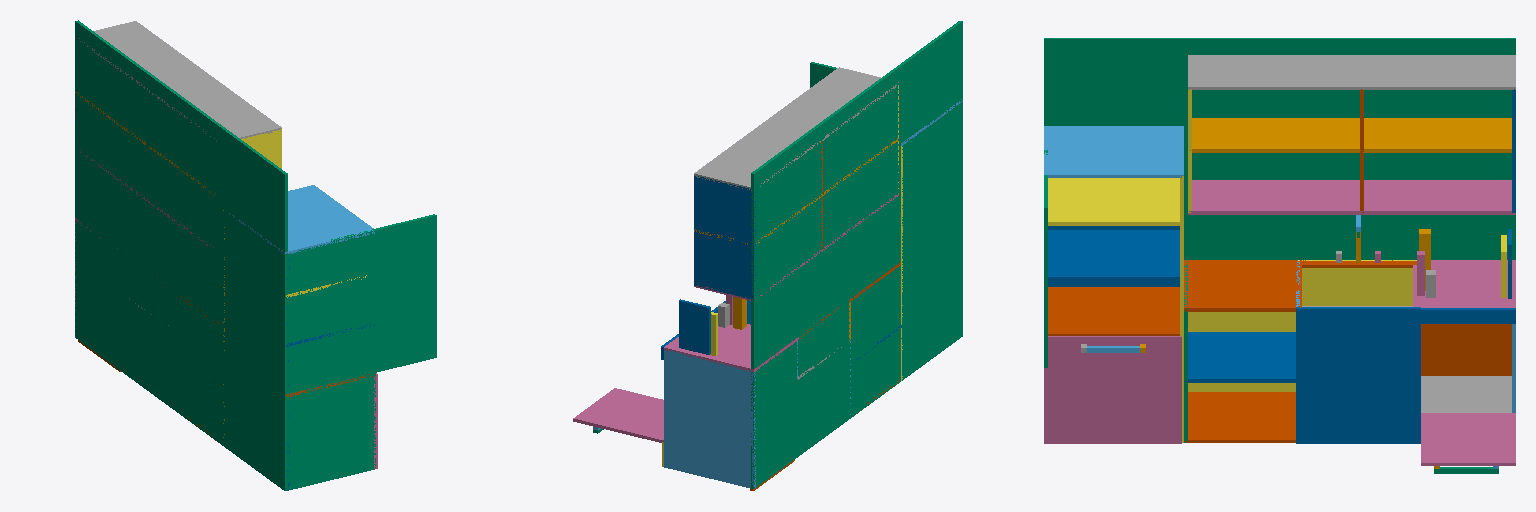
--- Render facts (derived) ---
3 views of the same robot in one strip: view 1: azimuth 30°, elevation 25°; view 2: azimuth 150°, elevation 25°; view 3: azimuth 270°, elevation 25° (orthographic).
Robot: countertop — 53 links, 52 joints (52 fixed); root link world; default pose: every joint at zero.
Visible links, largest first — view 1: back_wall, fridge_left_wall, fridge_door, cabinet_top, fridge_top, cabinet_left_wall; view 2: back_wall, dishwasher_right_side, cabinet_top, cabinet_right_wall, dishwasher_door, countertop_right, cereal2; view 3: back_wall, sink_front_wall, freezer_door, cabinet_top, cabinet_bottom, cabinet_shelf, fridge_top, fridge_shelf2, fridge_shelf3, fridge_shelf1, countertop_left, lower_cabinet_bottom (+13 smaller).
Link boxes in pixels (x1,y1,x2,y2): back_wall: (75, 20, 287, 490); fridge_left_wall: (283, 233, 375, 490); fridge_door: (331, 214, 436, 382); cabinet_top: (79, 21, 281, 141); fridge_top: (229, 185, 374, 254); cabinet_left_wall: (241, 129, 281, 168); back_wall: (751, 21, 962, 488); dishwasher_right_side: (664, 349, 755, 488); cabinet_top: (694, 67, 898, 190); cabinet_right_wall: (694, 176, 755, 299); dishwasher_door: (573, 388, 663, 442); countertop_right: (664, 324, 798, 371); cereal2: (679, 299, 710, 354); back_wall: (1044, 38, 1515, 259); sink_front_wall: (1296, 307, 1420, 443); freezer_door: (1044, 336, 1181, 443); cabinet_top: (1188, 55, 1515, 89); cabinet_bottom: (1188, 180, 1515, 214); cabinet_shelf: (1190, 118, 1511, 152); fridge_top: (1044, 126, 1183, 177); fridge_shelf2: (1048, 230, 1179, 280); fridge_shelf3: (1048, 287, 1179, 335); fridge_shelf1: (1048, 178, 1179, 225); countertop_left: (1184, 260, 1301, 311); lower_cabinet_bottom: (1184, 392, 1295, 442).
Size in the robot's own frame: 0.6 by 1.2 by 1.01 metres.
Geometry: primitives only (box / cylinder / sphere), no mesh files.

URDF robot description (countertop):
<robot name="countertop">
  <link name="world"/>
  <link name="fridge_top">
    <visual>
      <geometry>
        <box size="0.3 0.355 0.01"/>
      </geometry>
      <origin xyz="0.075 0.08875 0.375" rpy="0 0 0"/>
    </visual>
    <collision>
    <origin xyz="0.075 0.08875 0.375" rpy="0 0 0"/>
      <geometry>
        <box size="0.3 0.355 0.01"/>
      </geometry>
    </collision>
  </link>
  <joint name="fridge_top_joint" type="fixed">
    <parent link="world"/>
    <child link="fridge_top"/>
    <origin xyz="0.075 0.08875 0.375" rpy="0 0 0"/>
  </joint>
  <link name="fridge_door">
    <visual>
      <geometry>
        <box size="0.35 0.01 0.45"/>
      </geometry>
      <origin xyz="0.1625 0.0025 0.265" rpy="0 0 0"/>
    </visual>
    <collision>
    <origin xyz="0.1625 0.0025 0.265" rpy="0 0 0"/>
      <geometry>
        <box size="0.35 0.01 0.45"/>
      </geometry>
    </collision>
  </link>
  <joint name="fridge_door_joint" type="fixed">
    <parent link="world"/>
    <child link="fridge_door"/>
    <origin xyz="0.1625 0.0025 0.265" rpy="0 0 0"/>
  </joint>
  <link name="fridge_shelf1">
    <visual>
      <geometry>
        <box size="0.295 0.35 0.01"/>
      </geometry>
      <origin xyz="0.075 0.0875 0.3075" rpy="0 0 0"/>
    </visual>
    <collision>
    <origin xyz="0.075 0.0875 0.3075" rpy="0 0 0"/>
      <geometry>
        <box size="0.295 0.35 0.01"/>
      </geometry>
    </collision>
  </link>
  <joint name="fridge_shelf1_joint" type="fixed">
    <parent link="world"/>
    <child link="fridge_shelf1"/>
    <origin xyz="0.075 0.0875 0.3075" rpy="0 0 0"/>
  </joint>
  <link name="fridge_shelf2">
    <visual>
      <geometry>
        <box size="0.295 0.35 0.01"/>
      </geometry>
      <origin xyz="0.075 0.0875 0.23" rpy="0 0 0"/>
    </visual>
    <collision>
    <origin xyz="0.075 0.0875 0.23" rpy="0 0 0"/>
      <geometry>
        <box size="0.295 0.35 0.01"/>
      </geometry>
    </collision>
  </link>
  <joint name="fridge_shelf2_joint" type="fixed">
    <parent link="world"/>
    <child link="fridge_shelf2"/>
    <origin xyz="0.075 0.0875 0.23" rpy="0 0 0"/>
  </joint>
  <link name="fridge_shelf3">
    <visual>
      <geometry>
        <box size="0.295 0.35 0.01"/>
      </geometry>
      <origin xyz="0.075 0.0875 0.15" rpy="0 0 0"/>
    </visual>
    <collision>
    <origin xyz="0.075 0.0875 0.15" rpy="0 0 0"/>
      <geometry>
        <box size="0.295 0.35 0.01"/>
      </geometry>
    </collision>
  </link>
  <joint name="fridge_shelf3_joint" type="fixed">
    <parent link="world"/>
    <child link="fridge_shelf3"/>
    <origin xyz="0.075 0.0875 0.15" rpy="0 0 0"/>
  </joint>
  <link name="freezer_door">
    <visual>
      <geometry>
        <box size="0.01 0.35 0.3"/>
      </geometry>
      <origin xyz="0.15 0.0875 0.075" rpy="0 0 0"/>
    </visual>
    <collision>
    <origin xyz="0.15 0.0875 0.075" rpy="0 0 0"/>
      <geometry>
        <box size="0.01 0.35 0.3"/>
      </geometry>
    </collision>
  </link>
  <joint name="freezer_door_joint" type="fixed">
    <parent link="world"/>
    <child link="freezer_door"/>
    <origin xyz="0.15 0.0875 0.075" rpy="0 0 0"/>
  </joint>
  <link name="freezer_handle_left">
    <visual>
      <geometry>
        <box size="0.035 0.015 0.015"/>
      </geometry>
      <origin xyz="0.1575 0.05 0.1375" rpy="0 0 0"/>
    </visual>
    <collision>
    <origin xyz="0.1575 0.05 0.1375" rpy="0 0 0"/>
      <geometry>
        <box size="0.035 0.015 0.015"/>
      </geometry>
    </collision>
  </link>
  <joint name="freezer_handle_left_joint" type="fixed">
    <parent link="world"/>
    <child link="freezer_handle_left"/>
    <origin xyz="0.1575 0.05 0.1375" rpy="0 0 0"/>
  </joint>
  <link name="freezer_handle_right">
    <visual>
      <geometry>
        <box size="0.035 0.015 0.015"/>
      </geometry>
      <origin xyz="0.1575 0.125 0.1375" rpy="0 0 0"/>
    </visual>
    <collision>
    <origin xyz="0.1575 0.125 0.1375" rpy="0 0 0"/>
      <geometry>
        <box size="0.035 0.015 0.015"/>
      </geometry>
    </collision>
  </link>
  <joint name="freezer_handle_right_joint" type="fixed">
    <parent link="world"/>
    <child link="freezer_handle_right"/>
    <origin xyz="0.1575 0.125 0.1375" rpy="0 0 0"/>
  </joint>
  <link name="freezer_handle">
    <visual>
      <geometry>
        <box size="0.015 0.15 0.015"/>
      </geometry>
      <origin xyz="0.1625 0.0875 0.1375" rpy="0 0 0"/>
    </visual>
    <collision>
    <origin xyz="0.1625 0.0875 0.1375" rpy="0 0 0"/>
      <geometry>
        <box size="0.015 0.15 0.015"/>
      </geometry>
    </collision>
  </link>
  <joint name="freezer_handle_joint" type="fixed">
    <parent link="world"/>
    <child link="freezer_handle"/>
    <origin xyz="0.1625 0.0875 0.1375" rpy="0 0 0"/>
  </joint>
  <link name="fridge_left_wall">
    <visual>
      <geometry>
        <box size="0.3 0.01 0.75"/>
      </geometry>
      <origin xyz="0.075 0.0025 0.1875" rpy="0 0 0"/>
    </visual>
    <collision>
    <origin xyz="0.075 0.0025 0.1875" rpy="0 0 0"/>
      <geometry>
        <box size="0.3 0.01 0.75"/>
      </geometry>
    </collision>
  </link>
  <joint name="fridge_left_wall_joint" type="fixed">
    <parent link="world"/>
    <child link="fridge_left_wall"/>
    <origin xyz="0.075 0.0025 0.1875" rpy="0 0 0"/>
  </joint>
  <link name="fridge_right_wall">
    <visual>
      <geometry>
        <box size="0.3 0.01 0.75"/>
      </geometry>
      <origin xyz="0.075 0.175 0.1875" rpy="0 0 0"/>
    </visual>
    <collision>
    <origin xyz="0.075 0.175 0.1875" rpy="0 0 0"/>
      <geometry>
        <box size="0.3 0.01 0.75"/>
      </geometry>
    </collision>
  </link>
  <joint name="fridge_right_wall_joint" type="fixed">
    <parent link="world"/>
    <child link="fridge_right_wall"/>
    <origin xyz="0.075 0.175 0.1875" rpy="0 0 0"/>
  </joint>
  <link name="fridge_back_wall">
    <visual>
      <geometry>
        <box size="0.01 0.35 0.75"/>
      </geometry>
      <origin xyz="0.005 0.0875 0.1875" rpy="0 0 0"/>
    </visual>
    <collision>
    <origin xyz="0.005 0.0875 0.1875" rpy="0 0 0"/>
      <geometry>
        <box size="0.01 0.35 0.75"/>
      </geometry>
    </collision>
  </link>
  <joint name="fridge_back_wall_joint" type="fixed">
    <parent link="world"/>
    <child link="fridge_back_wall"/>
    <origin xyz="0.005 0.0875 0.1875" rpy="0 0 0"/>
  </joint>
  <link name="countertop_left">
    <visual>
      <geometry>
        <box size="0.3 0.3 0.01"/>
      </geometry>
      <origin xyz="0.075 0.2525 0.1875" rpy="0 0 0"/>
    </visual>
    <collision>
    <origin xyz="0.075 0.2525 0.1875" rpy="0 0 0"/>
      <geometry>
        <box size="0.3 0.3 0.01"/>
      </geometry>
    </collision>
  </link>
  <joint name="countertop_left_joint" type="fixed">
    <parent link="world"/>
    <child link="countertop_left"/>
    <origin xyz="0.075 0.2525 0.1875" rpy="0 0 0"/>
  </joint>
  <link name="countertop_right">
    <visual>
      <geometry>
        <box size="0.3 0.26 0.01"/>
      </geometry>
      <origin xyz="0.075 0.535 0.1875" rpy="0 0 0"/>
    </visual>
    <collision>
    <origin xyz="0.075 0.535 0.1875" rpy="0 0 0"/>
      <geometry>
        <box size="0.3 0.26 0.01"/>
      </geometry>
    </collision>
  </link>
  <joint name="countertop_right_joint" type="fixed">
    <parent link="world"/>
    <child link="countertop_right"/>
    <origin xyz="0.075 0.535 0.1875" rpy="0 0 0"/>
  </joint>
  <link name="sink_bottom">
    <visual>
      <geometry>
        <box size="0.3 0.3 0.01"/>
      </geometry>
      <origin xyz="0.075 0.4 0.125" rpy="0 0 0"/>
    </visual>
    <collision>
    <origin xyz="0.075 0.4 0.125" rpy="0 0 0"/>
      <geometry>
        <box size="0.3 0.3 0.01"/>
      </geometry>
    </collision>
  </link>
  <joint name="sink_bottom_joint" type="fixed">
    <parent link="world"/>
    <child link="sink_bottom"/>
    <origin xyz="0.075 0.4 0.125" rpy="0 0 0"/>
  </joint>
  <link name="sink_left_wall">
    <visual>
      <geometry>
        <box size="0.3 0.01 0.125"/>
      </geometry>
      <origin xyz="0.075 0.325 0.15625" rpy="0 0 0"/>
    </visual>
    <collision>
    <origin xyz="0.075 0.325 0.15625" rpy="0 0 0"/>
      <geometry>
        <box size="0.3 0.01 0.125"/>
      </geometry>
    </collision>
  </link>
  <joint name="sink_left_wall_joint" type="fixed">
    <parent link="world"/>
    <child link="sink_left_wall"/>
    <origin xyz="0.075 0.325 0.15625" rpy="0 0 0"/>
  </joint>
  <link name="sink_right_wall">
    <visual>
      <geometry>
        <box size="0.3 0.01 0.125"/>
      </geometry>
      <origin xyz="0.075 0.475 0.15625" rpy="0 0 0"/>
    </visual>
    <collision>
    <origin xyz="0.075 0.475 0.15625" rpy="0 0 0"/>
      <geometry>
        <box size="0.3 0.01 0.125"/>
      </geometry>
    </collision>
  </link>
  <joint name="sink_right_wall_joint" type="fixed">
    <parent link="world"/>
    <child link="sink_right_wall"/>
    <origin xyz="0.075 0.475 0.15625" rpy="0 0 0"/>
  </joint>
  <link name="back_wall">
    <visual>
      <geometry>
        <box size="0.01 1.2 1.0"/>
      </geometry>
      <origin xyz="0.0025 0.3 0.25" rpy="0 0 0"/>
    </visual>
    <collision>
    <origin xyz="0.0025 0.3 0.25" rpy="0 0 0"/>
      <geometry>
        <box size="0.01 1.2 1.0"/>
      </geometry>
    </collision>
  </link>
  <joint name="back_wall_joint" type="fixed">
    <parent link="world"/>
    <child link="back_wall"/>
    <origin xyz="0.0025 0.3 0.25" rpy="0 0 0"/>
  </joint>
  <link name="sink_back_wall">
    <visual>
      <geometry>
        <box size="0.01 0.31 0.38"/>
      </geometry>
      <origin xyz="0.0075 0.4 0.095" rpy="0 0 0"/>
    </visual>
    <collision>
    <origin xyz="0.0075 0.4 0.095" rpy="0 0 0"/>
      <geometry>
        <box size="0.01 0.31 0.38"/>
      </geometry>
    </collision>
  </link>
  <joint name="sink_back_wall_joint" type="fixed">
    <parent link="world"/>
    <child link="sink_back_wall"/>
    <origin xyz="0.0075 0.4 0.095" rpy="0 0 0"/>
  </joint>
  <link name="sink_front_wall">
    <visual>
      <geometry>
        <box size="0.01 0.32 0.38"/>
      </geometry>
      <origin xyz="0.15 0.4 0.095" rpy="0 0 0"/>
    </visual>
    <collision>
    <origin xyz="0.15 0.4 0.095" rpy="0 0 0"/>
      <geometry>
        <box size="0.01 0.32 0.38"/>
      </geometry>
    </collision>
  </link>
  <joint name="sink_front_wall_joint" type="fixed">
    <parent link="world"/>
    <child link="sink_front_wall"/>
    <origin xyz="0.15 0.4 0.095" rpy="0 0 0"/>
  </joint>
  <link name="faucet_platform">
    <visual>
      <geometry>
        <box size="0.04 0.3 0.01"/>
      </geometry>
      <origin xyz="0.01 0.4 0.1875" rpy="0 0 0"/>
    </visual>
    <collision>
    <origin xyz="0.01 0.4 0.1875" rpy="0 0 0"/>
      <geometry>
        <box size="0.04 0.3 0.01"/>
      </geometry>
    </collision>
  </link>
  <joint name="faucet_platform_joint" type="fixed">
    <parent link="world"/>
    <child link="faucet_platform"/>
    <origin xyz="0.01 0.4 0.1875" rpy="0 0 0"/>
  </joint>
  <link name="hot_water_knob">
    <visual>
      <geometry>
        <box size="0.015 0.015 0.03"/>
      </geometry>
      <origin xyz="0.01 0.425 0.195" rpy="0 0 0"/>
    </visual>
    <collision>
    <origin xyz="0.01 0.425 0.195" rpy="0 0 0"/>
      <geometry>
        <box size="0.015 0.015 0.03"/>
      </geometry>
    </collision>
  </link>
  <joint name="hot_water_knob_joint" type="fixed">
    <parent link="world"/>
    <child link="hot_water_knob"/>
    <origin xyz="0.01 0.425 0.195" rpy="0 0 0"/>
  </joint>
  <link name="cold_water_knob">
    <visual>
      <geometry>
        <box size="0.015 0.015 0.03"/>
      </geometry>
      <origin xyz="0.01 0.375 0.195" rpy="0 0 0"/>
    </visual>
    <collision>
    <origin xyz="0.01 0.375 0.195" rpy="0 0 0"/>
      <geometry>
        <box size="0.015 0.015 0.03"/>
      </geometry>
    </collision>
  </link>
  <joint name="cold_water_knob_joint" type="fixed">
    <parent link="world"/>
    <child link="cold_water_knob"/>
    <origin xyz="0.01 0.375 0.195" rpy="0 0 0"/>
  </joint>
  <link name="faucet_1">
    <visual>
      <geometry>
        <box size="0.015 0.015 0.15"/>
      </geometry>
      <origin xyz="0.01 0.4 0.225" rpy="0 0 0"/>
    </visual>
    <collision>
    <origin xyz="0.01 0.4 0.225" rpy="0 0 0"/>
      <geometry>
        <box size="0.015 0.015 0.15"/>
      </geometry>
    </collision>
  </link>
  <joint name="faucet_1_joint" type="fixed">
    <parent link="world"/>
    <child link="faucet_1"/>
    <origin xyz="0.01 0.4 0.225" rpy="0 0 0"/>
  </joint>
  <link name="faucet_2">
    <visual>
      <geometry>
        <box size="0.125 0.015 0.015"/>
      </geometry>
      <origin xyz="0.0375 0.4 0.2625" rpy="0 0 0"/>
    </visual>
    <collision>
    <origin xyz="0.0375 0.4 0.2625" rpy="0 0 0"/>
      <geometry>
        <box size="0.125 0.015 0.015"/>
      </geometry>
    </collision>
  </link>
  <joint name="faucet_2_joint" type="fixed">
    <parent link="world"/>
    <child link="faucet_2"/>
    <origin xyz="0.0375 0.4 0.2625" rpy="0 0 0"/>
  </joint>
  <link name="faucet_3">
    <visual>
      <geometry>
        <box size="0.01 0.01 0.025"/>
      </geometry>
      <origin xyz="0.06625 0.4 0.25625" rpy="0 0 0"/>
    </visual>
    <collision>
    <origin xyz="0.06625 0.4 0.25625" rpy="0 0 0"/>
      <geometry>
        <box size="0.01 0.01 0.025"/>
      </geometry>
    </collision>
  </link>
  <joint name="faucet_3_joint" type="fixed">
    <parent link="world"/>
    <child link="faucet_3"/>
    <origin xyz="0.06625 0.4 0.25625" rpy="0 0 0"/>
  </joint>
  <link name="cabinet_left_wall">
    <visual>
      <geometry>
        <box size="0.2 0.01 0.35"/>
      </geometry>
      <origin xyz="0.05 0.185 0.3875" rpy="0 0 0"/>
    </visual>
    <collision>
    <origin xyz="0.05 0.185 0.3875" rpy="0 0 0"/>
      <geometry>
        <box size="0.2 0.01 0.35"/>
      </geometry>
    </collision>
  </link>
  <joint name="cabinet_left_wall_joint" type="fixed">
    <parent link="world"/>
    <child link="cabinet_left_wall"/>
    <origin xyz="0.05 0.185 0.3875" rpy="0 0 0"/>
  </joint>
  <link name="cabinet_right_wall">
    <visual>
      <geometry>
        <box size="0.2 0.01 0.35"/>
      </geometry>
      <origin xyz="0.05 0.5975 0.3875" rpy="0 0 0"/>
    </visual>
    <collision>
    <origin xyz="0.05 0.5975 0.3875" rpy="0 0 0"/>
      <geometry>
        <box size="0.2 0.01 0.35"/>
      </geometry>
    </collision>
  </link>
  <joint name="cabinet_right_wall_joint" type="fixed">
    <parent link="world"/>
    <child link="cabinet_right_wall"/>
    <origin xyz="0.05 0.5975 0.3875" rpy="0 0 0"/>
  </joint>
  <link name="cabinet_middle_wall">
    <visual>
      <geometry>
        <box size="0.2 0.01 0.35"/>
      </geometry>
      <origin xyz="0.05 0.405 0.3875" rpy="0 0 0"/>
    </visual>
    <collision>
    <origin xyz="0.05 0.405 0.3875" rpy="0 0 0"/>
      <geometry>
        <box size="0.2 0.01 0.35"/>
      </geometry>
    </collision>
  </link>
  <joint name="cabinet_middle_wall_joint" type="fixed">
    <parent link="world"/>
    <child link="cabinet_middle_wall"/>
    <origin xyz="0.05 0.405 0.3875" rpy="0 0 0"/>
  </joint>
  <link name="cabinet_bottom">
    <visual>
      <geometry>
        <box size="0.2 0.835 0.01"/>
      </geometry>
      <origin xyz="0.05 0.39125 0.3" rpy="0 0 0"/>
    </visual>
    <collision>
    <origin xyz="0.05 0.39125 0.3" rpy="0 0 0"/>
      <geometry>
        <box size="0.2 0.835 0.01"/>
      </geometry>
    </collision>
  </link>
  <joint name="cabinet_bottom_joint" type="fixed">
    <parent link="world"/>
    <child link="cabinet_bottom"/>
    <origin xyz="0.05 0.39125 0.3" rpy="0 0 0"/>
  </joint>
  <link name="cabinet_top">
    <visual>
      <geometry>
        <box size="0.2 0.835 0.01"/>
      </geometry>
      <origin xyz="0.05 0.39125 0.475" rpy="0 0 0"/>
    </visual>
    <collision>
    <origin xyz="0.05 0.39125 0.475" rpy="0 0 0"/>
      <geometry>
        <box size="0.2 0.835 0.01"/>
      </geometry>
    </collision>
  </link>
  <joint name="cabinet_top_joint" type="fixed">
    <parent link="world"/>
    <child link="cabinet_top"/>
    <origin xyz="0.05 0.39125 0.475" rpy="0 0 0"/>
  </joint>
  <link name="cabinet_shelf">
    <visual>
      <geometry>
        <box size="0.2 0.835 0.01"/>
      </geometry>
      <origin xyz="0.05 0.39125 0.3875" rpy="0 0 0"/>
    </visual>
    <collision>
    <origin xyz="0.05 0.39125 0.3875" rpy="0 0 0"/>
      <geometry>
        <box size="0.2 0.835 0.01"/>
      </geometry>
    </collision>
  </link>
  <joint name="cabinet_shelf_joint" type="fixed">
    <parent link="world"/>
    <child link="cabinet_shelf"/>
    <origin xyz="0.05 0.39125 0.3875" rpy="0 0 0"/>
  </joint>
  <link name="lower_cabinet_right_wall">
    <visual>
      <geometry>
        <box size="0.3 0.01 0.38"/>
      </geometry>
      <origin xyz="0.075 0.3225 0.095" rpy="0 0 0"/>
    </visual>
    <collision>
    <origin xyz="0.075 0.3225 0.095" rpy="0 0 0"/>
      <geometry>
        <box size="0.3 0.01 0.38"/>
      </geometry>
    </collision>
  </link>
  <joint name="lower_cabinet_right_wall_joint" type="fixed">
    <parent link="world"/>
    <child link="lower_cabinet_right_wall"/>
    <origin xyz="0.075 0.3225 0.095" rpy="0 0 0"/>
  </joint>
  <link name="lower_cabinet_left_wall">
    <visual>
      <geometry>
        <box size="0.3 0.01 0.38"/>
      </geometry>
      <origin xyz="0.075 0.18 0.095" rpy="0 0 0"/>
    </visual>
    <collision>
    <origin xyz="0.075 0.18 0.095" rpy="0 0 0"/>
      <geometry>
        <box size="0.3 0.01 0.38"/>
      </geometry>
    </collision>
  </link>
  <joint name="lower_cabinet_left_wall_joint" type="fixed">
    <parent link="world"/>
    <child link="lower_cabinet_left_wall"/>
    <origin xyz="0.075 0.18 0.095" rpy="0 0 0"/>
  </joint>
  <link name="lower_cabinet_back_wall">
    <visual>
      <geometry>
        <box size="0.01 0.3 0.375"/>
      </geometry>
      <origin xyz="0.005 0.25 0.0925" rpy="0 0 0"/>
    </visual>
    <collision>
    <origin xyz="0.005 0.25 0.0925" rpy="0 0 0"/>
      <geometry>
        <box size="0.01 0.3 0.375"/>
      </geometry>
    </collision>
  </link>
  <joint name="lower_cabinet_back_wall_joint" type="fixed">
    <parent link="world"/>
    <child link="lower_cabinet_back_wall"/>
    <origin xyz="0.005 0.25 0.0925" rpy="0 0 0"/>
  </joint>
  <link name="lower_cabinet_shelf">
    <visual>
      <geometry>
        <box size="0.3 0.3 0.01"/>
      </geometry>
      <origin xyz="0.075 0.25 0.0875" rpy="0 0 0"/>
    </visual>
    <collision>
    <origin xyz="0.075 0.25 0.0875" rpy="0 0 0"/>
      <geometry>
        <box size="0.3 0.3 0.01"/>
      </geometry>
    </collision>
  </link>
  <joint name="lower_cabinet_shelf_joint" type="fixed">
    <parent link="world"/>
    <child link="lower_cabinet_shelf"/>
    <origin xyz="0.075 0.25 0.0875" rpy="0 0 0"/>
  </joint>
  <link name="lower_cabinet_bottom">
    <visual>
      <geometry>
        <box size="0.3 0.3 0.01"/>
      </geometry>
      <origin xyz="0.075 0.25 0.0025" rpy="0 0 0"/>
    </visual>
    <collision>
    <origin xyz="0.075 0.25 0.0025" rpy="0 0 0"/>
      <geometry>
        <box size="0.3 0.3 0.01"/>
      </geometry>
    </collision>
  </link>
  <joint name="lower_cabinet_bottom_joint" type="fixed">
    <parent link="world"/>
    <child link="lower_cabinet_bottom"/>
    <origin xyz="0.075 0.25 0.0025" rpy="0 0 0"/>
  </joint>
  <link name="bottle">
    <visual>
      <geometry>
        <box size="0.02 0.02 0.12"/>
      </geometry>
      <origin xyz="0.1075 0.48 0.2175" rpy="0 0 0"/>
    </visual>
    <collision>
    <origin xyz="0.1075 0.48 0.2175" rpy="0 0 0"/>
      <geometry>
        <box size="0.02 0.02 0.12"/>
      </geometry>
    </collision>
  </link>
  <joint name="bottle_joint" type="fixed">
    <parent link="world"/>
    <child link="bottle"/>
    <origin xyz="0.1075 0.48 0.2175" rpy="0 0 0"/>
  </joint>
  <link name="bottle2">
    <visual>
      <geometry>
        <box size="0.025 0.025 0.08"/>
      </geometry>
      <origin xyz="0.1125 0.4925 0.2025" rpy="0 0 0"/>
    </visual>
    <collision>
    <origin xyz="0.1125 0.4925 0.2025" rpy="0 0 0"/>
      <geometry>
        <box size="0.025 0.025 0.08"/>
      </geometry>
    </collision>
  </link>
  <joint name="bottle2_joint" type="fixed">
    <parent link="world"/>
    <child link="bottle2"/>
    <origin xyz="0.1125 0.4925 0.2025" rpy="0 0 0"/>
  </joint>
  <link name="bottle3">
    <visual>
      <geometry>
        <box size="0.03 0.03 0.16"/>
      </geometry>
      <origin xyz="0.09 0.485 0.23" rpy="0 0 0"/>
    </visual>
    <collision>
    <origin xyz="0.09 0.485 0.23" rpy="0 0 0"/>
      <geometry>
        <box size="0.03 0.03 0.16"/>
      </geometry>
    </collision>
  </link>
  <joint name="bottle3_joint" type="fixed">
    <parent link="world"/>
    <child link="bottle3"/>
    <origin xyz="0.09 0.485 0.23" rpy="0 0 0"/>
  </joint>
  <link name="dishwasher_right_side">
    <visual>
      <geometry>
        <box size="0.3 0.01 0.375"/>
      </geometry>
      <origin xyz="0.075 0.5975 0.09375" rpy="0 0 0"/>
    </visual>
    <collision>
    <origin xyz="0.075 0.5975 0.09375" rpy="0 0 0"/>
      <geometry>
        <box size="0.3 0.01 0.375"/>
      </geometry>
    </collision>
  </link>
  <joint name="dishwasher_right_side_joint" type="fixed">
    <parent link="world"/>
    <child link="dishwasher_right_side"/>
    <origin xyz="0.075 0.5975 0.09375" rpy="0 0 0"/>
  </joint>
  <link name="dishwasher_left_side">
    <visual>
      <geometry>
        <box size="0.3 0.01 0.375"/>
      </geometry>
      <origin xyz="0.075 0.4775 0.09375" rpy="0 0 0"/>
    </visual>
    <collision>
    <origin xyz="0.075 0.4775 0.09375" rpy="0 0 0"/>
      <geometry>
        <box size="0.3 0.01 0.375"/>
      </geometry>
    </collision>
  </link>
  <joint name="dishwasher_left_side_joint" type="fixed">
    <parent link="world"/>
    <child link="dishwasher_left_side"/>
    <origin xyz="0.075 0.4775 0.09375" rpy="0 0 0"/>
  </joint>
  <link name="dishwasher_bottom_wall">
    <visual>
      <geometry>
        <box size="0.01 0.24 0.08"/>
      </geometry>
      <origin xyz="0.15 0.54 0.02" rpy="0 0 0"/>
    </visual>
    <collision>
    <origin xyz="0.15 0.54 0.02" rpy="0 0 0"/>
      <geometry>
        <box size="0.01 0.24 0.08"/>
      </geometry>
    </collision>
  </link>
  <joint name="dishwasher_bottom_wall_joint" type="fixed">
    <parent link="world"/>
    <child link="dishwasher_bottom_wall"/>
    <origin xyz="0.15 0.54 0.02" rpy="0 0 0"/>
  </joint>
  <link name="dishwasher_front_top_wall">
    <visual>
      <geometry>
        <box size="0.01 0.24 0.04"/>
      </geometry>
      <origin xyz="0.1525 0.54 0.18" rpy="0 0 0"/>
    </visual>
    <collision>
    <origin xyz="0.1525 0.54 0.18" rpy="0 0 0"/>
      <geometry>
        <box size="0.01 0.24 0.04"/>
      </geometry>
    </collision>
  </link>
  <joint name="dishwasher_front_top_wall_joint" type="fixed">
    <parent link="world"/>
    <child link="dishwasher_front_top_wall"/>
    <origin xyz="0.1525 0.54 0.18" rpy="0 0 0"/>
  </joint>
  <link name="dishwasher_back_wall">
    <visual>
      <geometry>
        <box size="0.01 0.24 0.37"/>
      </geometry>
      <origin xyz="0.005 0.5375 0.0875" rpy="0 0 0"/>
    </visual>
    <collision>
    <origin xyz="0.005 0.5375 0.0875" rpy="0 0 0"/>
      <geometry>
        <box size="0.01 0.24 0.37"/>
      </geometry>
    </collision>
  </link>
  <joint name="dishwasher_back_wall_joint" type="fixed">
    <parent link="world"/>
    <child link="dishwasher_back_wall"/>
    <origin xyz="0.005 0.5375 0.0875" rpy="0 0 0"/>
  </joint>
  <link name="dishwasher_door">
    <visual>
      <geometry>
        <box size="0.3 0.24 0.01"/>
      </geometry>
      <origin xyz="0.225 0.54 0.04" rpy="0 0 0"/>
    </visual>
    <collision>
    <origin xyz="0.225 0.54 0.04" rpy="0 0 0"/>
      <geometry>
        <box size="0.3 0.24 0.01"/>
      </geometry>
    </collision>
  </link>
  <joint name="dishwasher_door_joint" type="fixed">
    <parent link="world"/>
    <child link="dishwasher_door"/>
    <origin xyz="0.225 0.54 0.04" rpy="0 0 0"/>
  </joint>
  <link name="dishwasher_bottom">
    <visual>
      <geometry>
        <box size="0.28 0.24 0.01"/>
      </geometry>
      <origin xyz="0.075 0.5375 0.025" rpy="0 0 0"/>
    </visual>
    <collision>
    <origin xyz="0.075 0.5375 0.025" rpy="0 0 0"/>
      <geometry>
        <box size="0.28 0.24 0.01"/>
      </geometry>
    </collision>
  </link>
  <joint name="dishwasher_bottom_joint" type="fixed">
    <parent link="world"/>
    <child link="dishwasher_bottom"/>
    <origin xyz="0.075 0.5375 0.025" rpy="0 0 0"/>
  </joint>
  <link name="dishwasher_handle_left">
    <visual>
      <geometry>
        <box size="0.015 0.015 0.035"/>
      </geometry>
      <origin xyz="0.275 0.5 0.03" rpy="0 0 0"/>
    </visual>
    <collision>
    <origin xyz="0.275 0.5 0.03" rpy="0 0 0"/>
      <geometry>
        <box size="0.015 0.015 0.035"/>
      </geometry>
    </collision>
  </link>
  <joint name="dishwasher_handle_left_joint" type="fixed">
    <parent link="world"/>
    <child link="dishwasher_handle_left"/>
    <origin xyz="0.275 0.5 0.03" rpy="0 0 0"/>
  </joint>
  <link name="dishwasher_handle_right">
    <visual>
      <geometry>
        <box size="0.015 0.015 0.035"/>
      </geometry>
      <origin xyz="0.275 0.575 0.03" rpy="0 0 0"/>
    </visual>
    <collision>
    <origin xyz="0.275 0.575 0.03" rpy="0 0 0"/>
      <geometry>
        <box size="0.015 0.015 0.035"/>
      </geometry>
    </collision>
  </link>
  <joint name="dishwasher_handle_right_joint" type="fixed">
    <parent link="world"/>
    <child link="dishwasher_handle_right"/>
    <origin xyz="0.275 0.575 0.03" rpy="0 0 0"/>
  </joint>
  <link name="dishwasher_handle">
    <visual>
      <geometry>
        <box size="0.015 0.165 0.015"/>
      </geometry>
      <origin xyz="0.275 0.5375 0.02" rpy="0 0 0"/>
    </visual>
    <collision>
    <origin xyz="0.275 0.5375 0.02" rpy="0 0 0"/>
      <geometry>
        <box size="0.015 0.165 0.015"/>
      </geometry>
    </collision>
  </link>
  <joint name="dishwasher_handle_joint" type="fixed">
    <parent link="world"/>
    <child link="dishwasher_handle"/>
    <origin xyz="0.275 0.5375 0.02" rpy="0 0 0"/>
  </joint>
  <link name="cereal">
    <visual>
      <geometry>
        <box size="0.1 0.015 0.13"/>
      </geometry>
      <origin xyz="0.095 0.585 0.2225" rpy="0 0 0"/>
    </visual>
    <collision>
    <origin xyz="0.095 0.585 0.2225" rpy="0 0 0"/>
      <geometry>
        <box size="0.1 0.015 0.13"/>
      </geometry>
    </collision>
  </link>
  <joint name="cereal_joint" type="fixed">
    <parent link="world"/>
    <child link="cereal"/>
    <origin xyz="0.095 0.585 0.2225" rpy="0 0 0"/>
  </joint>
  <link name="cereal2">
    <visual>
      <geometry>
        <box size="0.1 0.01 0.15"/>
      </geometry>
      <origin xyz="0.1025 0.5925 0.23" rpy="0 0 0"/>
    </visual>
    <collision>
    <origin xyz="0.1025 0.5925 0.23" rpy="0 0 0"/>
      <geometry>
        <box size="0.1 0.01 0.15"/>
      </geometry>
    </collision>
  </link>
  <joint name="cereal2_joint" type="fixed">
    <parent link="world"/>
    <child link="cereal2"/>
    <origin xyz="0.1025 0.5925 0.23" rpy="0 0 0"/>
  </joint>
</robot>
